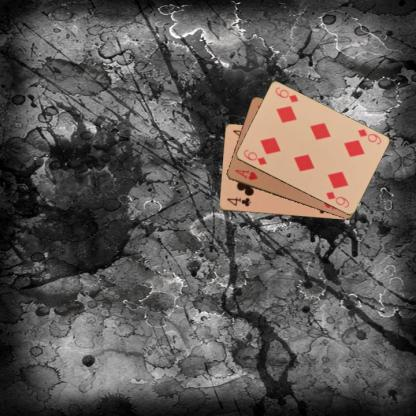4c: (224, 195, 252, 208)
6d: (355, 127, 382, 146), (241, 147, 267, 166)
Ah: (232, 167, 259, 181)
